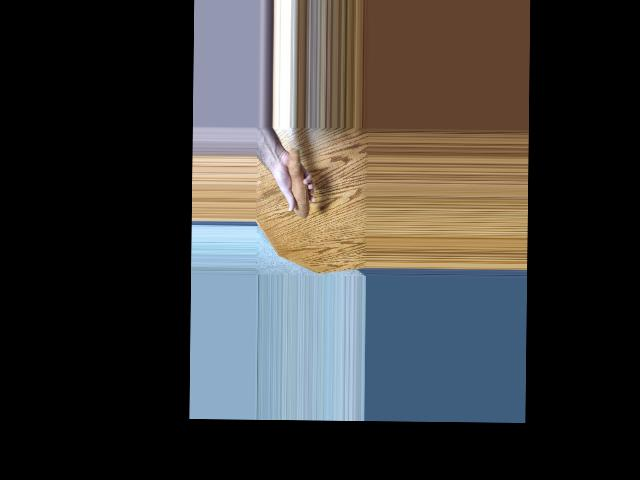sweet_potato: (281, 141, 311, 219)
